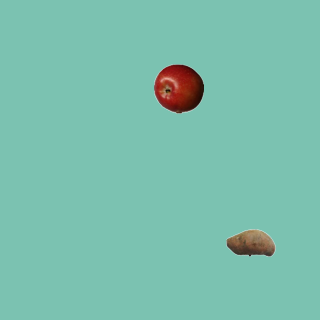Apple Braeburn: (153, 63, 203, 113)
Potato Sweet: (225, 217, 275, 267)
